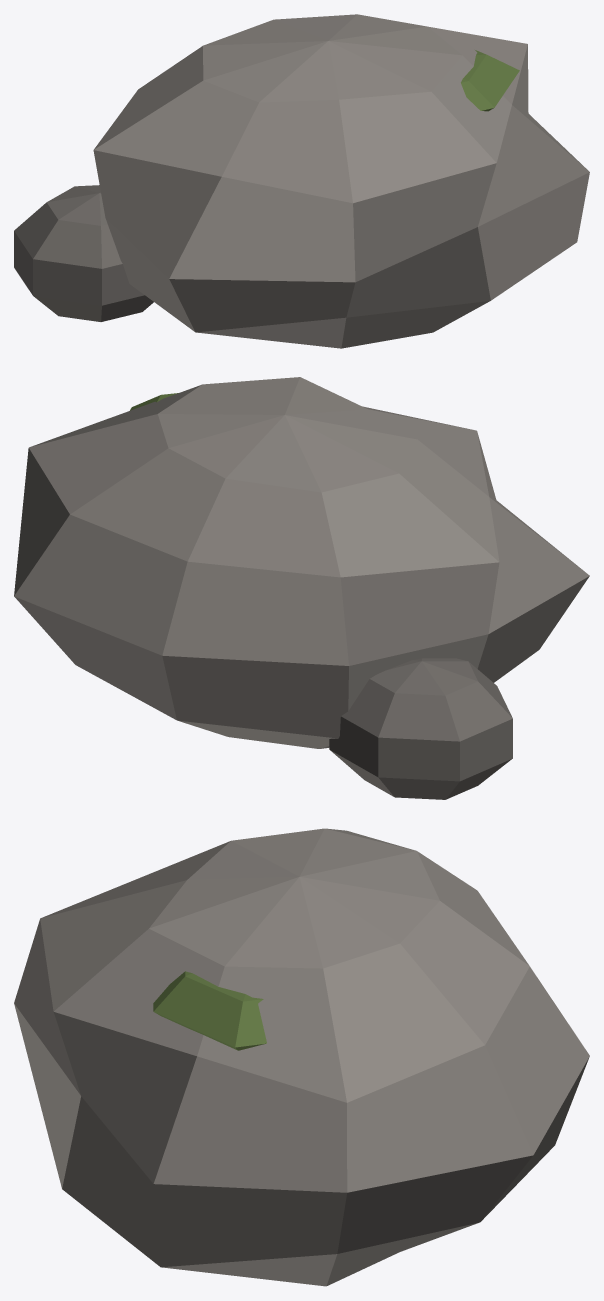
The model's file is rock.glb.
3 renders of one model, top to bottom at view 1: azimuth 30°, elevation 25°; view 2: azimuth 150°, elevation 25°; view 3: azimuth 270°, elevation 25°, orthographic. The views are drawn at different scales.
Visible parts, largest first — view 1: rock; view 2: rock; view 3: rock.
Boxes of the visible parts, <box> form: rock: <box>14,14,589,348</box>; rock: <box>14,377,589,799</box>; rock: <box>14,828,589,1286</box>.
Bounding box in the file's own units: 1.86 × 0.999 × 1.53.
